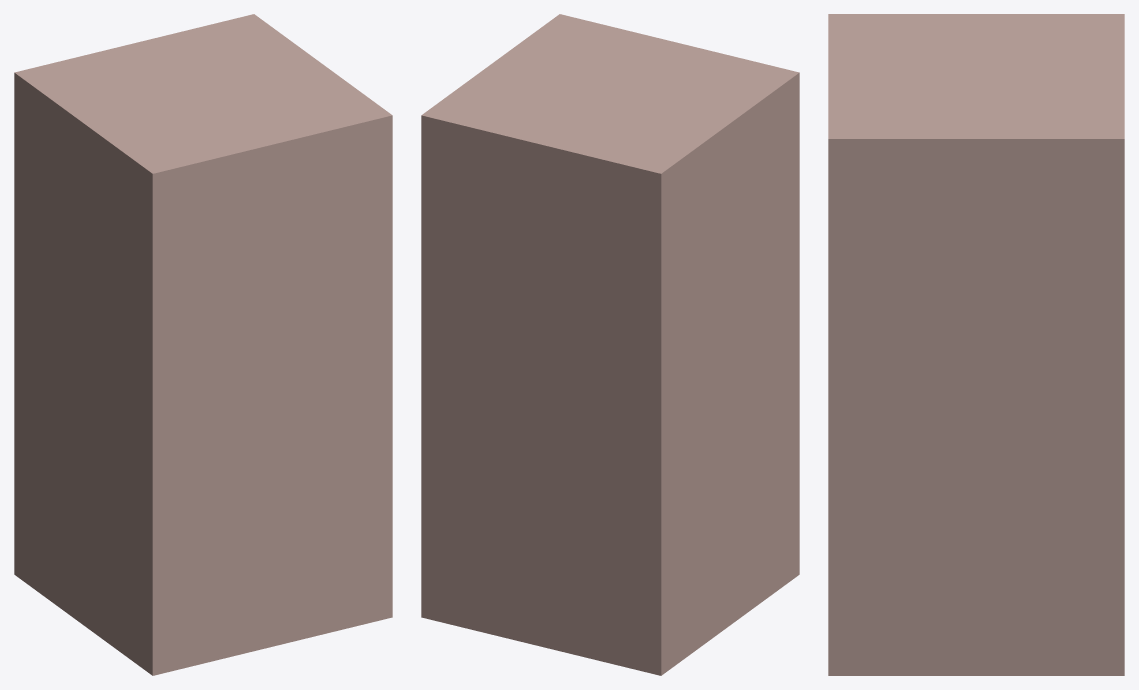
The model's file is Decors.001.fbx.
The picture shows the model from 3 angles, left to right: view 1: azimuth 30°, elevation 25°; view 2: azimuth 150°, elevation 25°; view 3: azimuth 270°, elevation 25°; orthographic projection. The views are drawn at different scales.
Visible parts, largest first — view 1: Decors.001; view 2: Decors.001; view 3: Decors.001.
Part boxes in pixels (<box>): Decors.001: <box>14,14,392,675</box>; Decors.001: <box>421,14,799,675</box>; Decors.001: <box>828,14,1124,675</box>.
Size of the model in its own units: 10 by 20 by 10.
